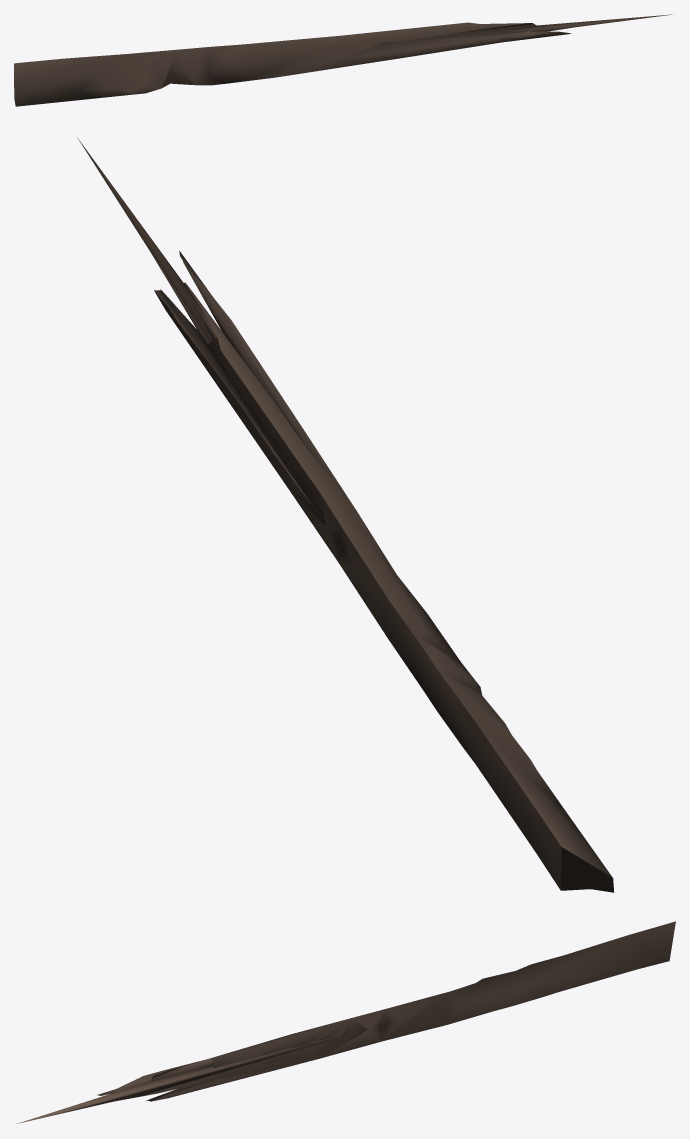
Rendered from trees-dead-trees-wood-wood-splinter_v1.fbx.
3 views of the same model, one above another, from view 1: azimuth 30°, elevation 25°; view 2: azimuth 150°, elevation 25°; view 3: azimuth 270°, elevation 25° (orthographic). The views are drawn at different scales.
Parts seen in each view (by area): view 1: Wood Splinter_v1; view 2: Wood Splinter_v1; view 3: Wood Splinter_v1.
Boxes of the visible parts, x1,y1,x2,y2 form: Wood Splinter_v1: (14,14,673,106); Wood Splinter_v1: (77,137,614,892); Wood Splinter_v1: (17,921,675,1123).
Bounding box in the file's own units: 0.3 × 0.0753 × 0.234.
